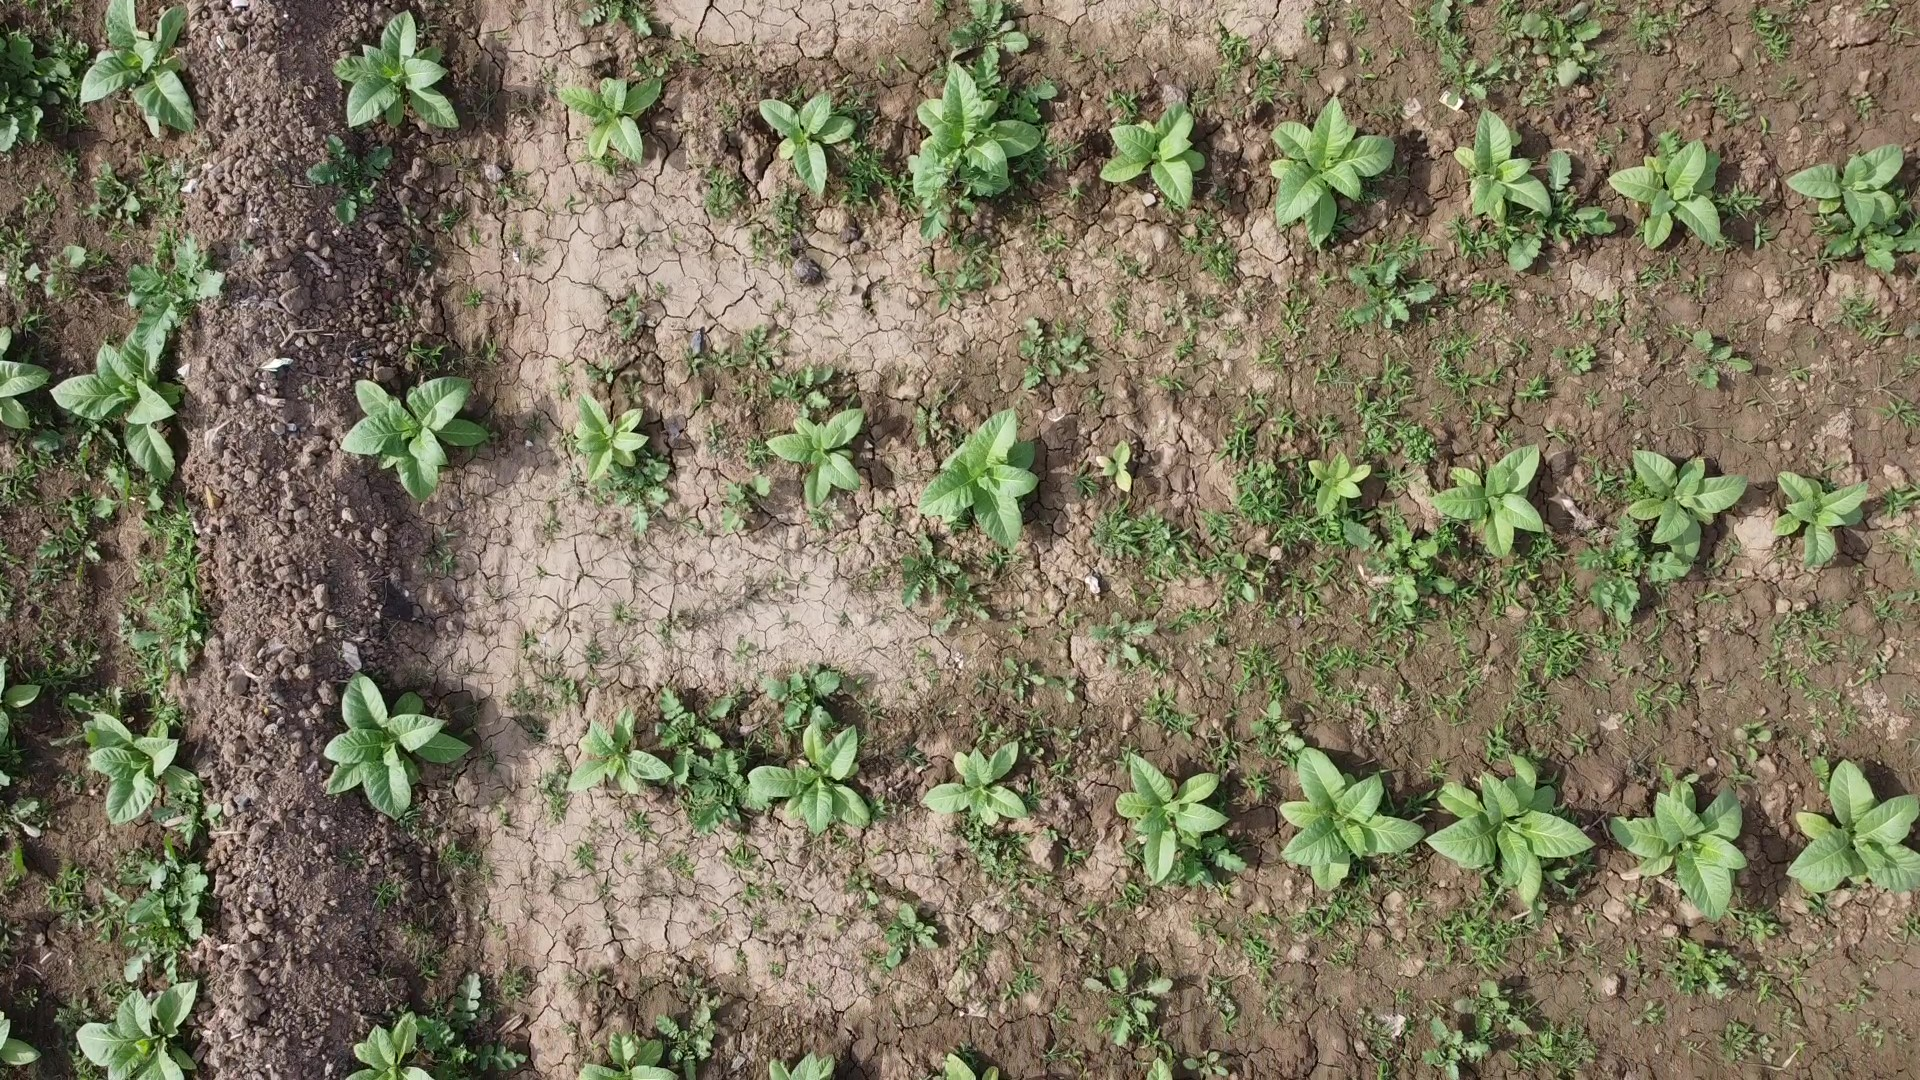weed: (375, 381, 504, 510), (585, 84, 723, 187), (80, 6, 211, 112), (762, 99, 908, 192), (943, 435, 1057, 551), (1442, 121, 1561, 222), (1651, 803, 1769, 900), (1638, 146, 1752, 245), (1446, 781, 1582, 863), (99, 710, 209, 811), (1819, 144, 1920, 248), (1296, 775, 1399, 867), (1817, 790, 1909, 889), (771, 725, 870, 816), (1296, 118, 1397, 204), (1614, 458, 1720, 538), (355, 1010, 478, 1078), (1462, 448, 1552, 540), (349, 697, 441, 786), (73, 342, 170, 424), (915, 734, 1012, 807), (1147, 775, 1231, 857), (790, 403, 870, 489), (575, 717, 663, 794), (357, 54, 452, 125), (947, 110, 1029, 185), (1141, 105, 1214, 189), (575, 400, 661, 469), (90, 999, 185, 1059), (1304, 446, 1378, 506), (0, 667, 54, 738), (1784, 489, 1851, 542), (581, 1050, 680, 1080), (0, 353, 39, 428), (1098, 439, 1149, 489), (0, 1022, 45, 1072), (762, 1057, 850, 1080)
